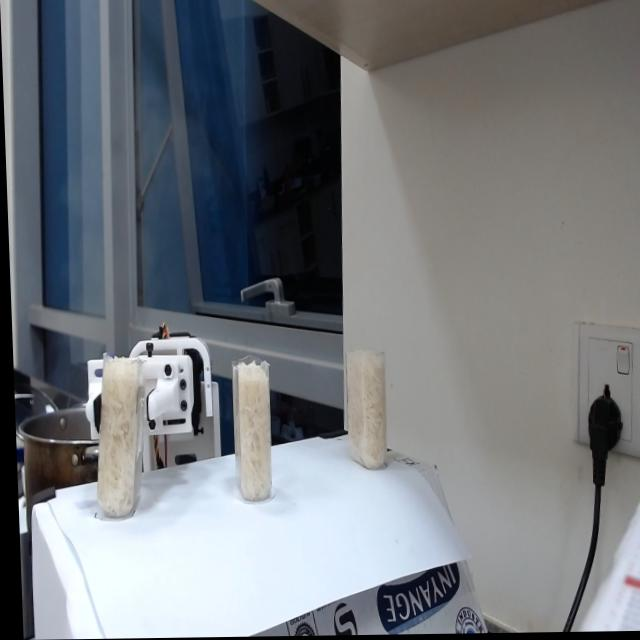raw_rice: (96, 362, 137, 533), (228, 372, 274, 502), (340, 354, 389, 474)
